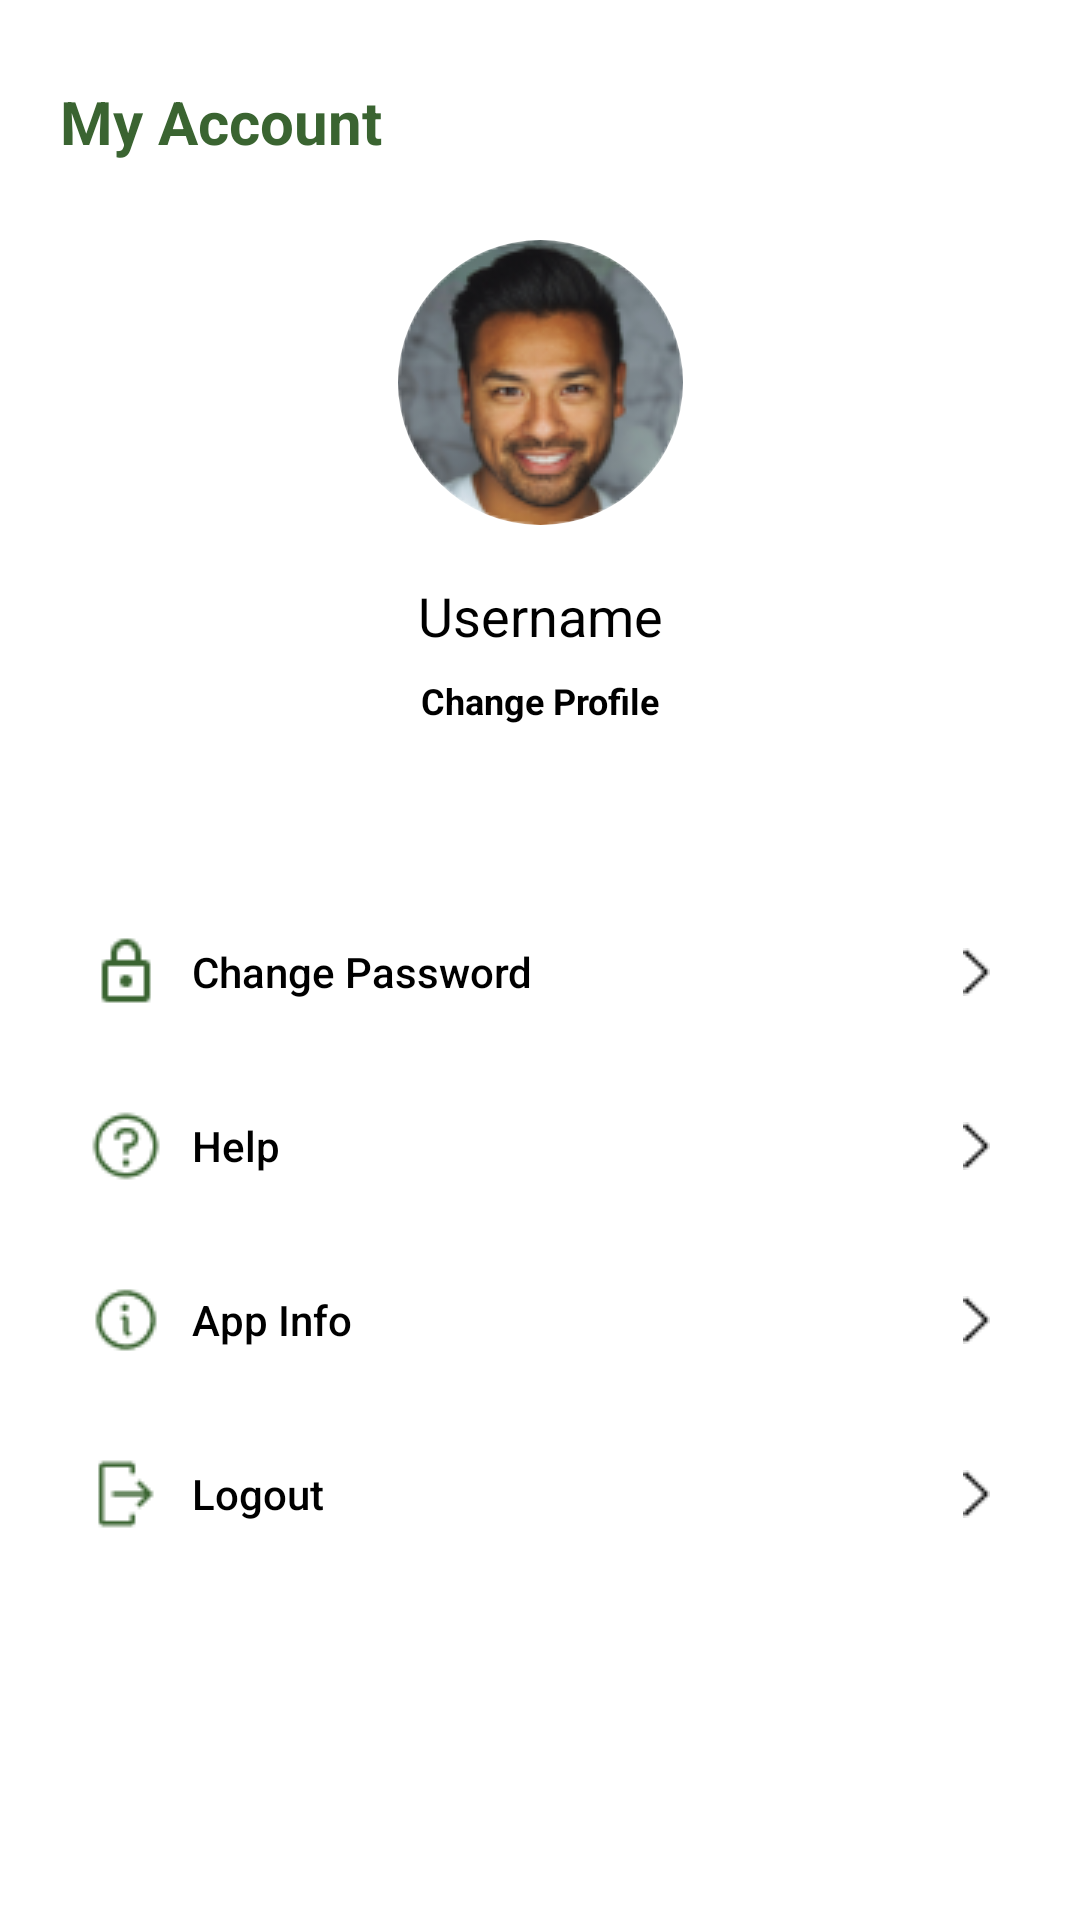

Point at icon controls on the screen. Image size 1080 × 1920, points as (x,y).
ex profile: (540,382)
